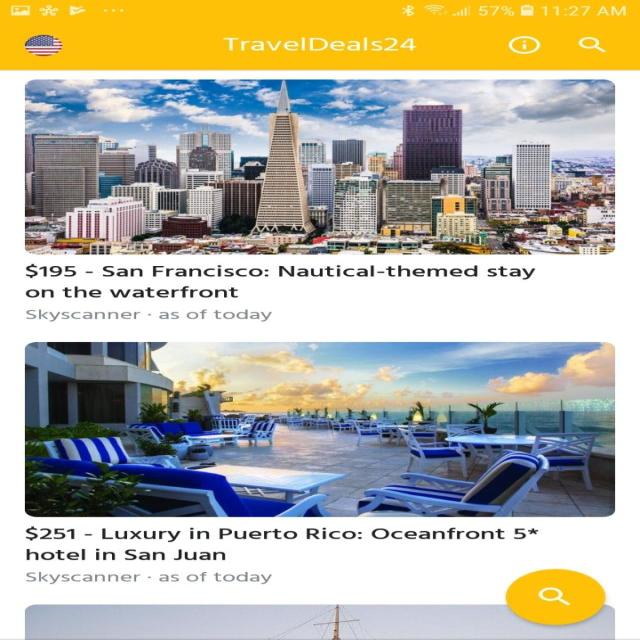Icon: (504, 568, 604, 625), (508, 36, 540, 55), (576, 36, 606, 53)
Image: (24, 342, 614, 517), (25, 79, 615, 254), (24, 604, 614, 640), (24, 35, 62, 57)
Text: (25, 263, 535, 298), (24, 526, 538, 560), (25, 309, 272, 321), (26, 572, 272, 584), (222, 37, 416, 51)
